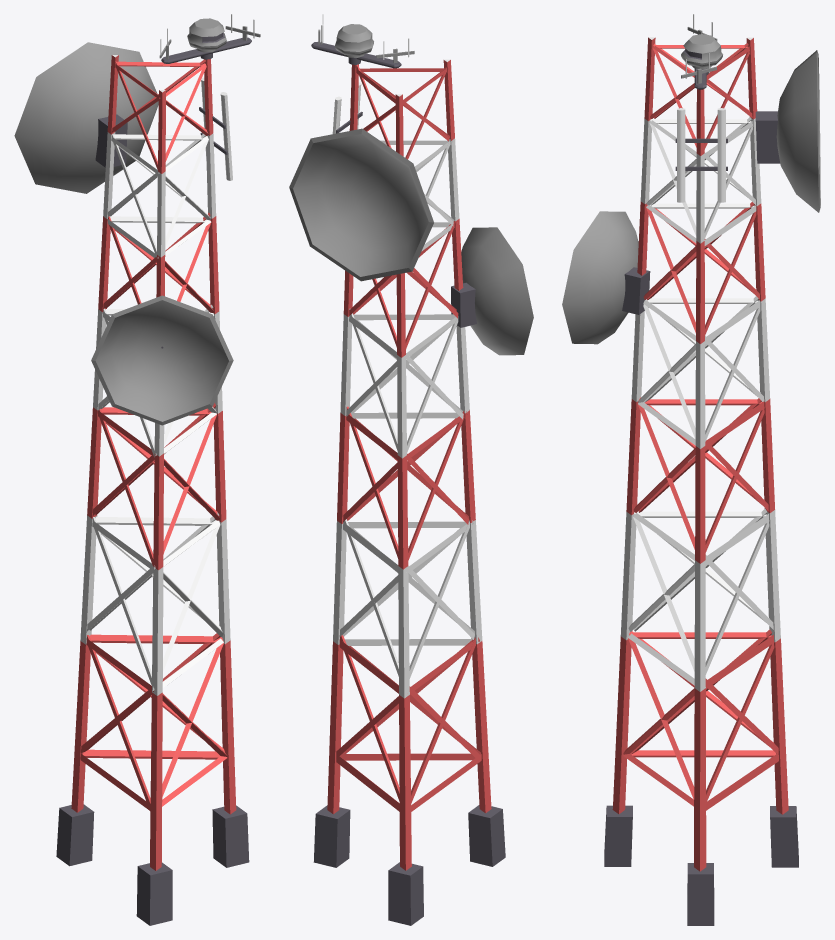
The model's file is radio.glb.
3 views of the same model, side by side, from view 1: azimuth 30°, elevation 25°; view 2: azimuth 150°, elevation 25°; view 3: azimuth 270°, elevation 25° (orthographic). The views are drawn at different scales.
Visible parts, largest first — view 1: SM_RadioTower; view 2: SM_RadioTower; view 3: SM_RadioTower.
Boxes of the visible parts, bbox=[...] form: SM_RadioTower: bbox=[14, 14, 260, 925]; SM_RadioTower: bbox=[289, 14, 533, 925]; SM_RadioTower: bbox=[562, 14, 820, 925].
Size of the model in its own units: 8.15 by 34.2 by 9.23.
